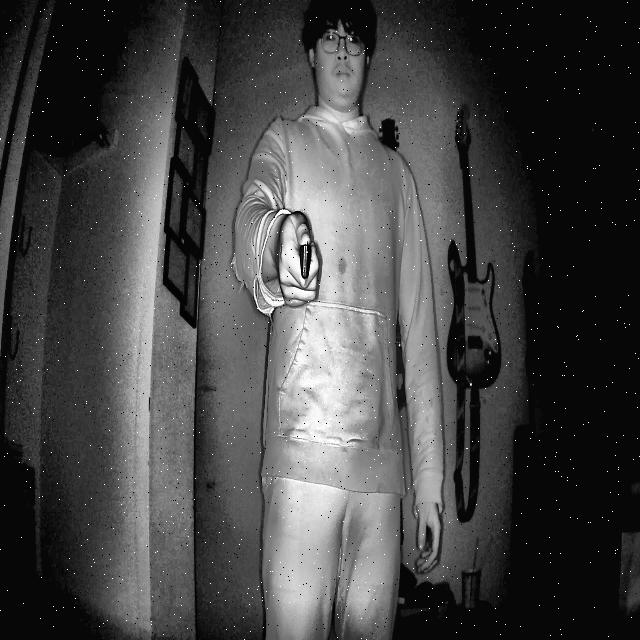knife: (262, 171, 342, 346)
